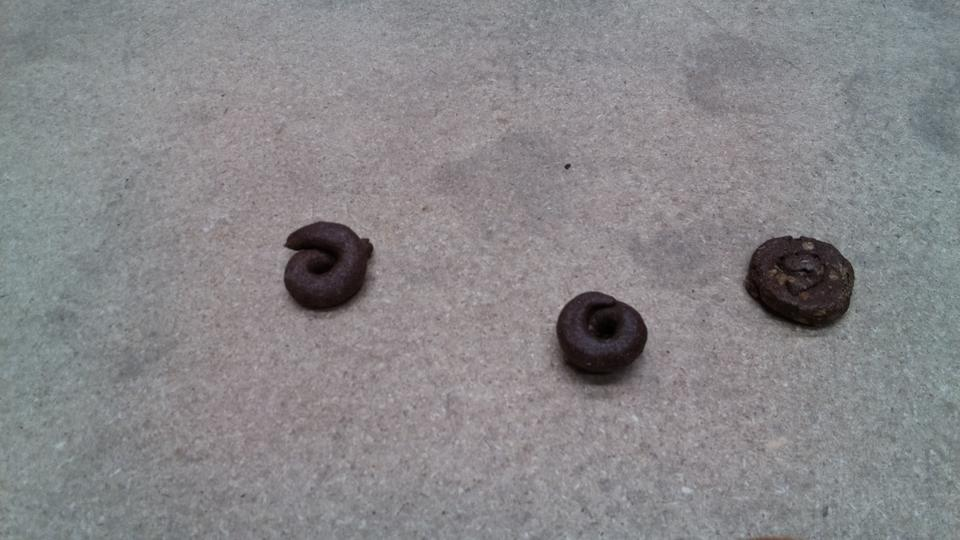poop: (746, 234, 857, 331), (281, 222, 374, 314), (555, 289, 649, 379)
